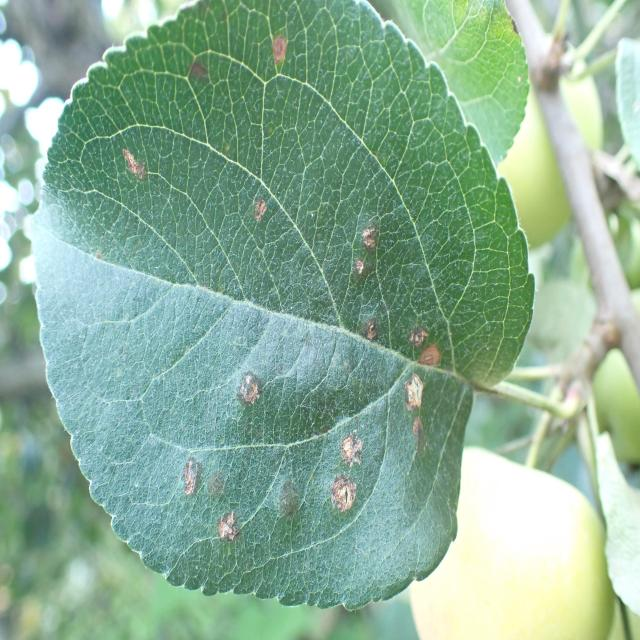frog-eye-leaf-spot: (28, 0, 535, 608)
